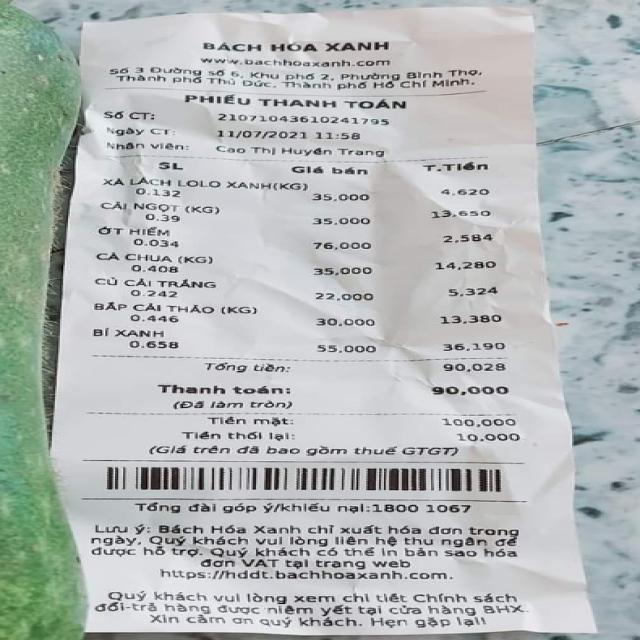Date: (217, 127, 313, 140)
Store_Name: (198, 40, 392, 52)
amount_number: (426, 384, 514, 398)
label_total: (155, 382, 284, 396)
